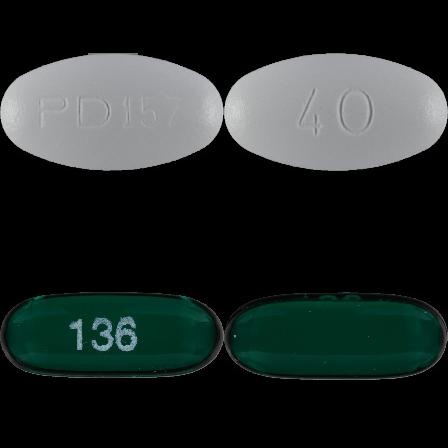43353-826: (0, 0, 224, 224)
